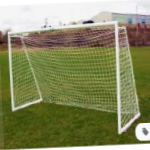goals: (6, 20, 141, 135)
